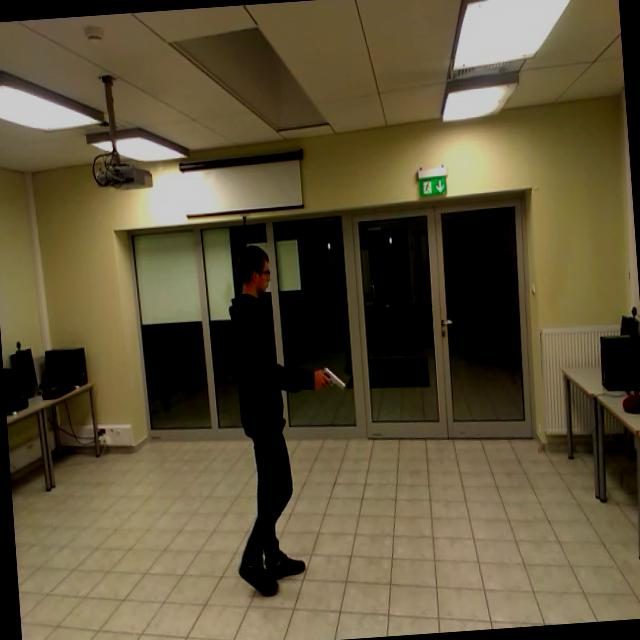handgun: (311, 353, 353, 402)
